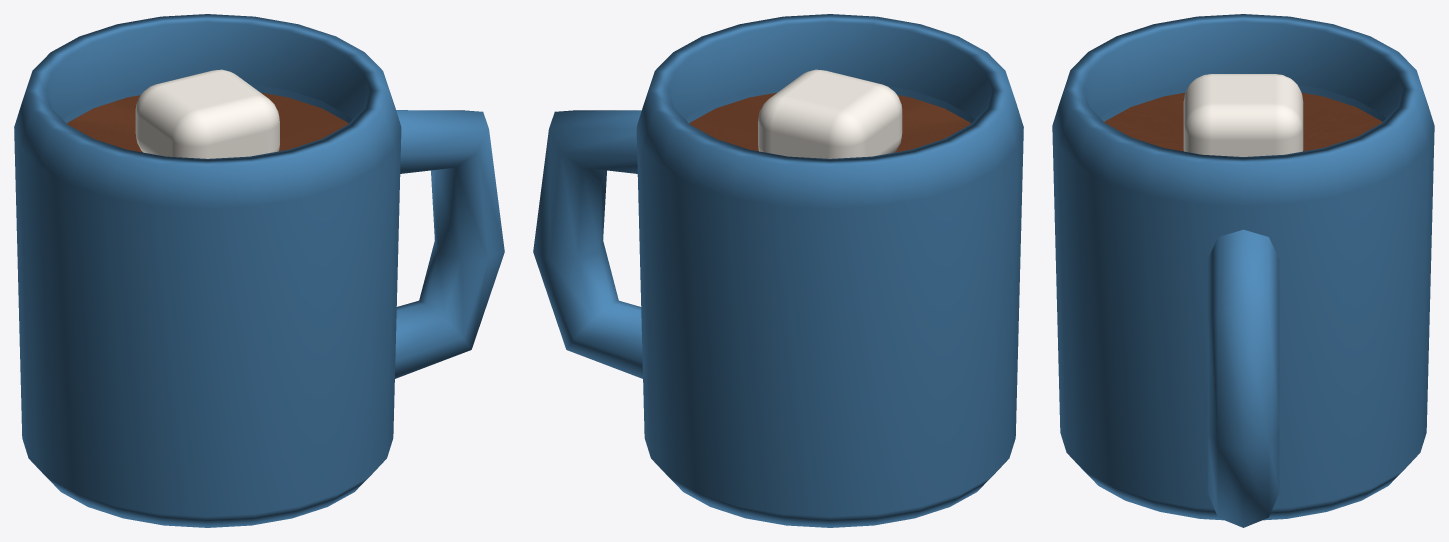
File: style_cup.glb
3 views of the same model, side by side, from view 1: azimuth 30°, elevation 25°; view 2: azimuth 150°, elevation 25°; view 3: azimuth 270°, elevation 25° (orthographic).
Visible parts, largest first — view 1: style_cup_gloss, style_cup_main; view 2: style_cup_gloss, style_cup_main; view 3: style_cup_gloss, style_cup_main.
Boxes of the visible parts, x1=… form: style_cup_gloss: x1=14, y1=14, x2=504, y2=527; style_cup_main: x1=67, y1=69, x2=348, y2=158; style_cup_gloss: x1=533, y1=14, x2=1023, y2=527; style_cup_main: x1=689, y1=69, x2=970, y2=158; style_cup_gloss: x1=1052, y1=14, x2=1434, y2=527; style_cup_main: x1=1104, y1=74, x2=1382, y2=156.
Bounding box in the file's own units: 0.132 × 0.1 × 0.096.
